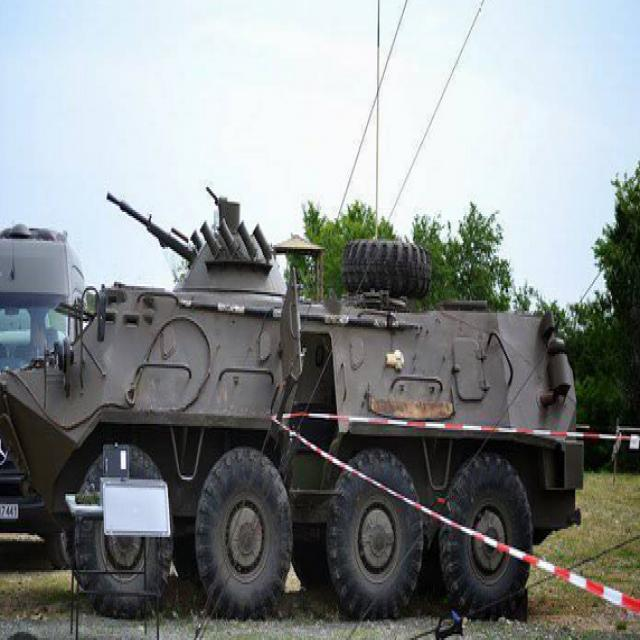MIL_APC: (10, 223, 592, 613)
